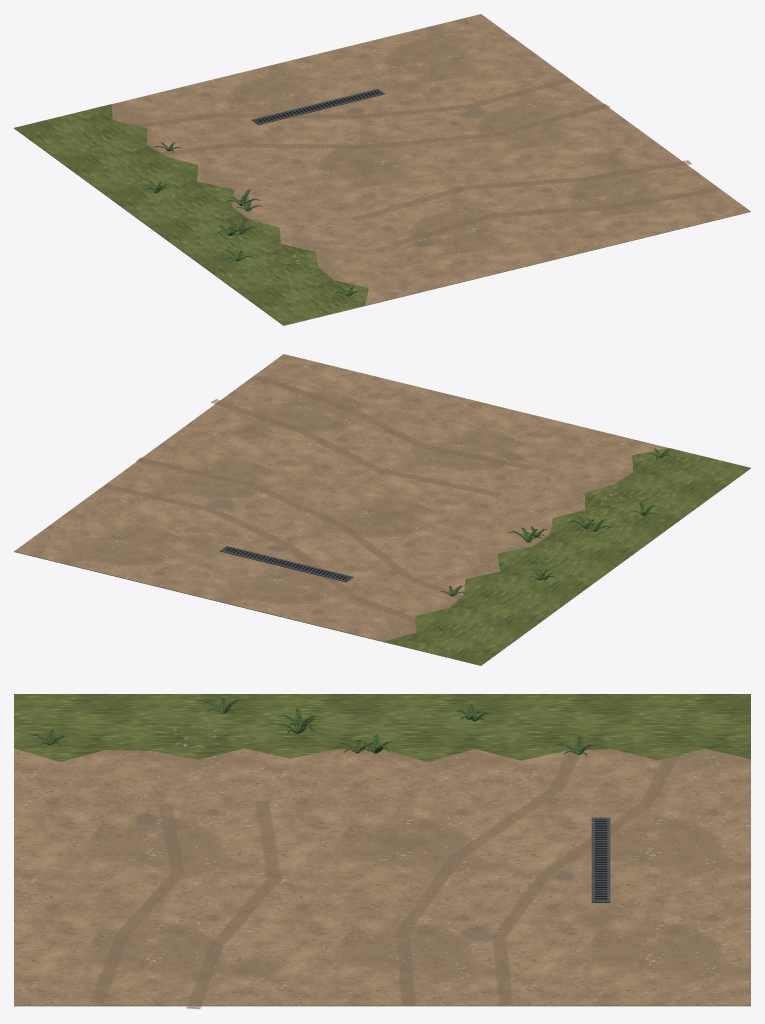
The model's file is ground_e.glb.
3 renders of one model, top to bottom at view 1: azimuth 30°, elevation 25°; view 2: azimuth 150°, elevation 25°; view 3: azimuth 270°, elevation 25°, orthographic. The views are drawn at different scales.
Visible parts, largest first — view 1: ground_e_dirt, ground_e_decals, ground_e_grates; view 2: ground_e_dirt, ground_e_decals, ground_e_grates; view 3: ground_e_dirt, ground_e_decals, ground_e_grates.
Part boxes in pixels (<box>): ground_e_dirt: <box>14,14,750,325</box>; ground_e_decals: <box>133,69,716,269</box>; ground_e_grates: <box>252,89,384,125</box>; ground_e_dirt: <box>14,354,750,665</box>; ground_e_decals: <box>103,375,640,623</box>; ground_e_grates: <box>220,546,353,582</box>; ground_e_dirt: <box>14,694,750,1006</box>; ground_e_decals: <box>89,724,679,1009</box>; ground_e_grates: <box>591,817,610,902</box>.
Bounding box in the file's own units: 11.96 × 0.2812 × 11.8.
7 materials, 7 textured.
